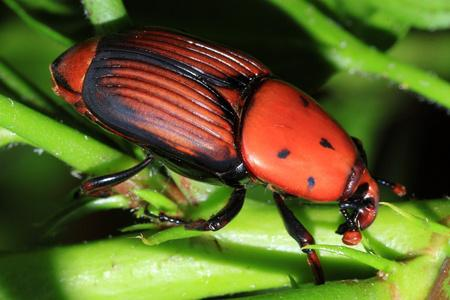Curculionidae: (48, 23, 409, 286)
